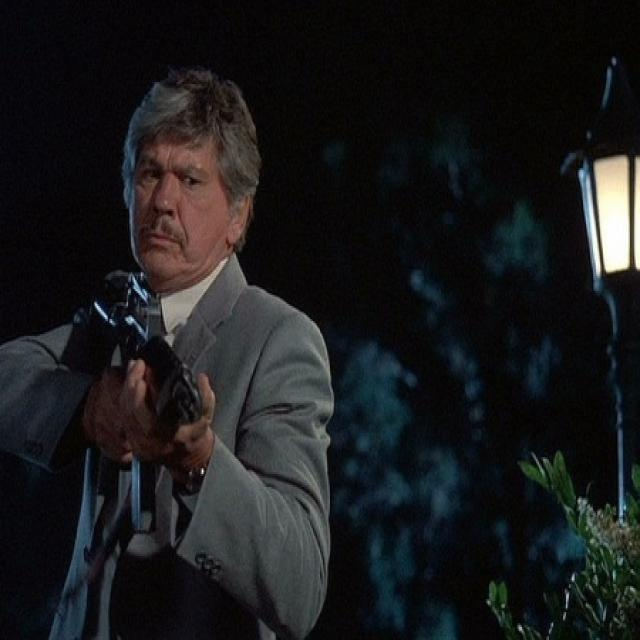rifle: (91, 275, 205, 435)
